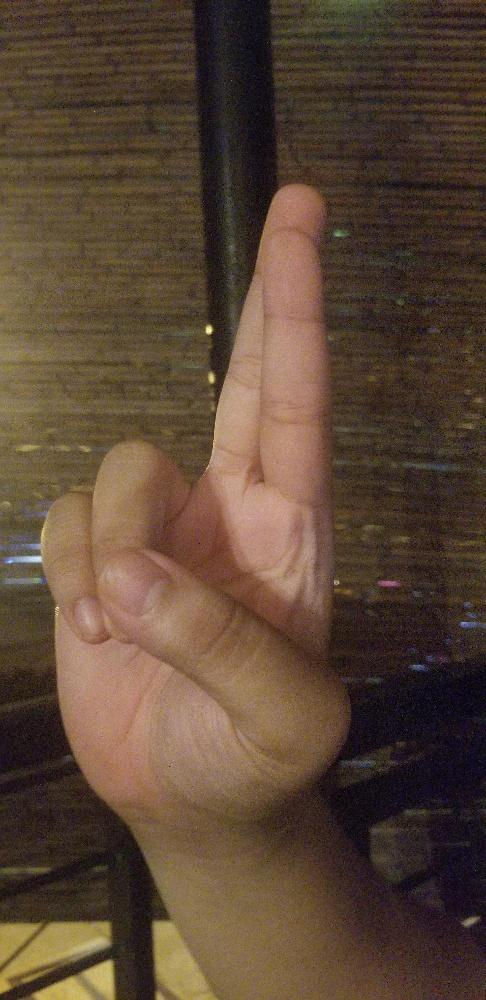r: (37, 179, 354, 814)
